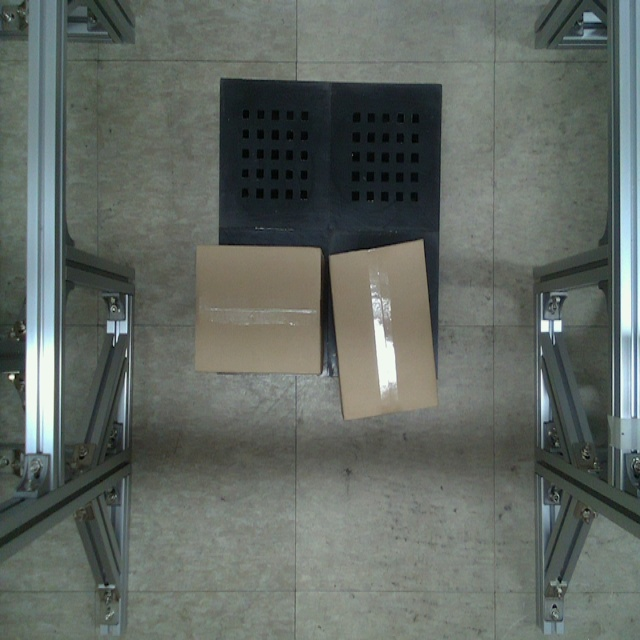box: (329, 237, 437, 421), (193, 243, 323, 375)
